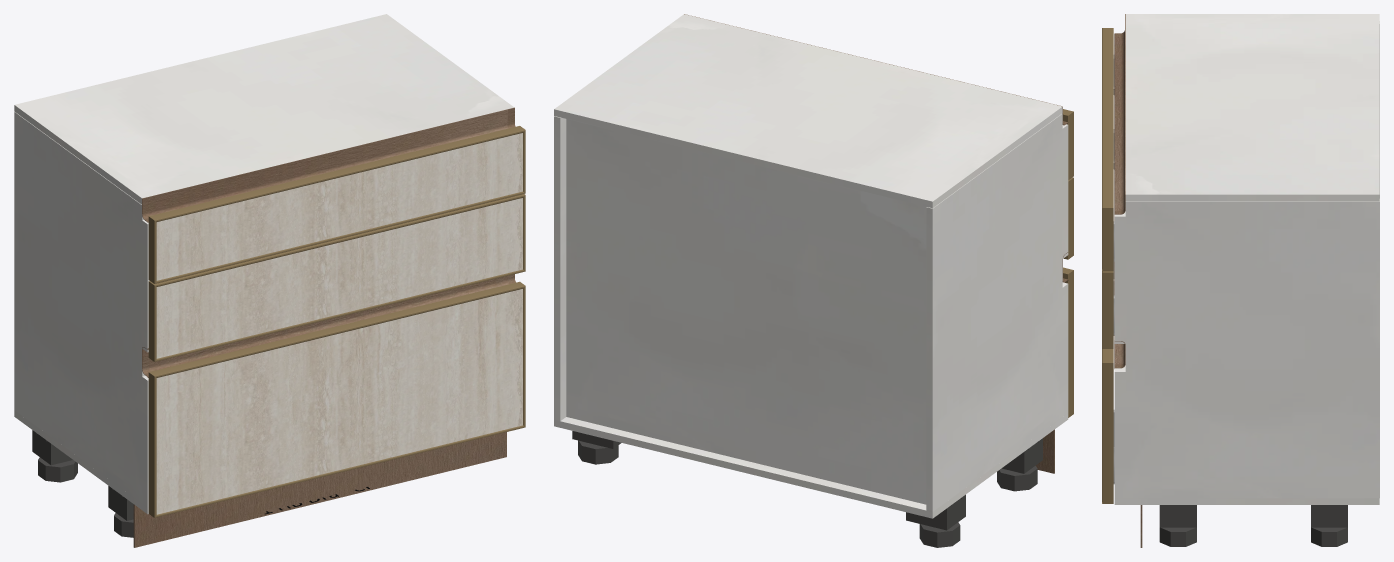
The model's file is BC-DW-CJ-ST-2LB-1HB-XXX-900-720-560-15.glb.
The picture shows the model from 3 angles, left to right: view 1: azimuth 30°, elevation 25°; view 2: azimuth 150°, elevation 25°; view 3: azimuth 270°, elevation 25°; orthographic projection. The views are drawn at different scales.
Parts seen in each view (by area): view 1: Object_node, TP_node_8, TP_node_6, Object_node_1, Object_node_3, Object_node_85, ExtrSplGeo, ExtrSplGeo_node, Extrusion, Extrusion_node_6, Extrusion_node_2, Extrusion_node_1 (+7 smaller); view 2: TP, TP_node_8, TP_node_6, TP_node_5, TP_node_7, Plate, Extrusion_node_1, Foot, Foot_node_0, Foot_node, Plate_node_0; view 3: TP_node_7, TP_node_8, ExtrSplGeo, Extrusion_node_6, TP_node_5, Extrusion_node, Extrusion_node_3, Plate_node_1, Plate_node, Extrusion_node_7, Foot_node_1, Foot_node (+1 smaller).
Boxes of the visible parts, bbox=[...] form: Object_node: bbox=[156, 289, 522, 514]; TP_node_8: bbox=[14, 14, 514, 204]; TP_node_6: bbox=[14, 111, 149, 507]; Object_node_1: bbox=[156, 198, 522, 358]; Object_node_3: bbox=[156, 133, 522, 280]; Object_node_85: bbox=[133, 432, 506, 547]; ExtrSplGeo: bbox=[142, 107, 515, 222]; ExtrSplGeo_node: bbox=[142, 274, 515, 377]; Extrusion: bbox=[149, 281, 525, 377]; Extrusion_node_6: bbox=[149, 126, 525, 221]; Extrusion_node_2: bbox=[149, 194, 525, 286]; Extrusion_node_1: bbox=[148, 372, 156, 517]; TP: bbox=[566, 119, 926, 504]; TP_node_8: bbox=[554, 14, 1062, 208]; TP_node_6: bbox=[926, 113, 1068, 511]; TP_node_5: bbox=[554, 413, 1068, 518]; TP_node_7: bbox=[554, 116, 566, 420]; Plate: bbox=[906, 494, 965, 530]; Extrusion_node_1: bbox=[1063, 270, 1073, 417]; Foot: bbox=[919, 522, 960, 547]; Foot_node_0: bbox=[997, 466, 1037, 491]; Foot_node: bbox=[578, 440, 618, 464]; Plate_node_0: bbox=[1002, 438, 1042, 473]; TP_node_7: bbox=[1114, 199, 1379, 498]; TP_node_8: bbox=[1125, 14, 1379, 201]; ExtrSplGeo: bbox=[1114, 14, 1125, 214]; Extrusion_node_6: bbox=[1102, 28, 1113, 208]; TP_node_5: bbox=[1114, 368, 1379, 504]; Extrusion_node: bbox=[1102, 363, 1113, 503]; Extrusion_node_3: bbox=[1102, 272, 1113, 348]; Plate_node_1: bbox=[1159, 505, 1196, 527]; Plate_node: bbox=[1311, 505, 1347, 527]; Extrusion_node_7: bbox=[1102, 208, 1113, 271]; Foot_node_1: bbox=[1159, 527, 1196, 546]; Foot_node: bbox=[1311, 527, 1347, 546].
Size of what is drawn, in the model's own units: 0.9 by 0.82 by 0.5842.
7 materials, 3 textured.
